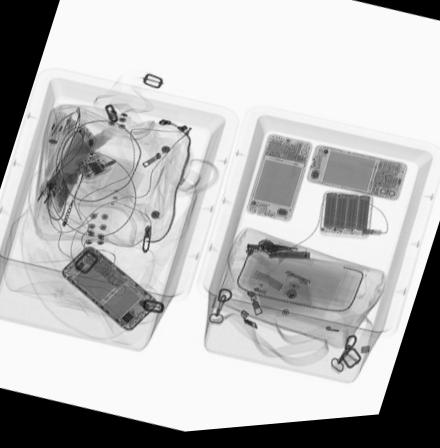Powerbank: (320, 195, 375, 247)
